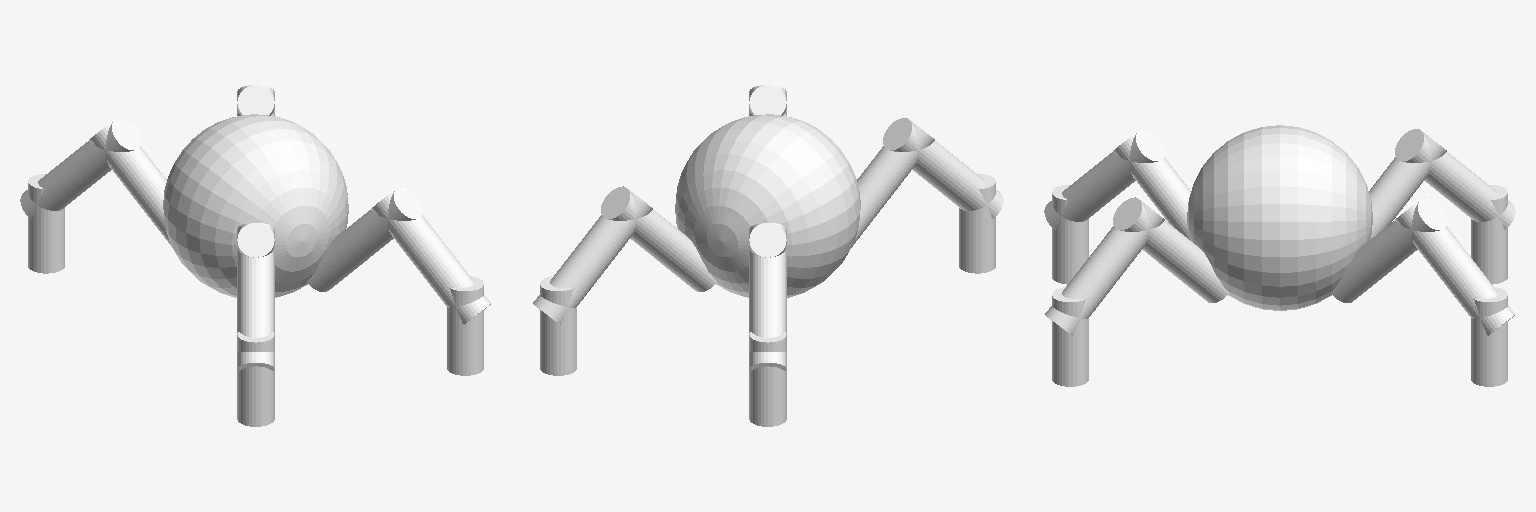
URDF robot description (robot_model):
<?xml version="1.0" ?>
<robot name="robot_model">
    <material name="material_0">
        <color rgba="1.0 1.0 1.0 1.0" />
        <texture filename="wood_0.png" />
    </material>
    <link name="base_link">
        <visual>
            <geometry>
                <sphere radius="0.25" />
            </geometry>
            <origin rpy="1.5708 -0 0" xyz="0 0 0" />
            <material name="material_0" />
        </visual>
        <collision>
            <geometry>
                <sphere radius="0.25" />
            </geometry>
            <origin rpy="1.5708 -0 0" xyz="0 0 0" />
        </collision>
        <inertial>
            <origin rpy="0 -0 0" xyz="0 0 0" />
            <mass value="20" />
            <inertia xx="0.5" xy="0" xz="0" yy="0.5" yz="0" zz="0.5" />
        </inertial>
    </link>
    <link name="node_2_link">
        <visual>
            <geometry>
                <cylinder length="0.4" radius="0.05" />
                <newton replaceWith="capsule" />
            </geometry>
            <origin rpy="2.58142e-15 -1.5708 0" xyz="0.15 0 1.74674e-09" />
            <material name="material_0" />
        </visual>
        <collision>
            <geometry>
                <cylinder length="0.4" radius="0.05" />
                <newton replaceWith="capsule" />
            </geometry>
            <origin rpy="2.58142e-15 -1.5708 0" xyz="0.15 0 1.74674e-09" />
        </collision>
        <inertial>
            <origin rpy="0 -0 0" xyz="0.15 0 -5.70384e-09" />
            <mass value="0.25" />
            <inertia xx="0.00259239" xy="0.000569043" xz="-0.000657074" yy="0.00193531" yz="0.00113809" zz="0.00160678" />
        </inertial>
    </link>
    <joint name="node_2_link_to_base_link" type="floating">
        <parent link="base_link" />
        <child link="node_2_link" />
        <newton replaceWith="ndIkJointSpherical" />
        <origin rpy="1.5708 -0.785398 -1.0472" xyz="0.1125 -0.194856 -0.125" />
    </joint>
    <link name="node_1_link">
        <visual>
            <geometry>
                <cylinder length="0.4" radius="0.05" />
                <newton replaceWith="capsule" />
            </geometry>
            <origin rpy="-1.5708 -8.22321e-09 3.14159" xyz="-1.31544e-08 0.15 -2.98023e-08" />
            <material name="material_0" />
        </visual>
        <collision>
            <geometry>
                <cylinder length="0.4" radius="0.05" />
                <newton replaceWith="capsule" />
            </geometry>
            <origin rpy="-1.5708 -8.22321e-09 3.14159" xyz="-1.31544e-08 0.15 -2.98023e-08" />
        </collision>
        <inertial>
            <origin rpy="0 -0 0" xyz="-5.70385e-09 0.15 -2.23517e-08" />
            <mass value="0.0625" />
            <inertia xx="0.000237425" xy="-0.000284521" xz="1.16415e-10" yy="0.000565963" yz="0" zz="0.000730231" />
        </inertial>
    </link>
    <joint name="node_1_link_to_node_2_link" type="floating">
        <parent link="node_2_link" />
        <child link="node_1_link" />
        <newton replaceWith="ndIkJointHinge" />
        <origin rpy="3.14159 1.5708 0" xyz="0.3 0 -2.63088e-08" />
    </joint>
    <link name="node_0_link">
        <visual>
            <geometry>
                <cylinder length="0.25" radius="0.05" />
                <newton replaceWith="capsule" />
            </geometry>
            <origin rpy="-1.5708 8.51837e-14 -2.98231e-07" xyz="1.74423e-08 -0.075 0" />
            <material name="material_0" />
        </visual>
        <collision>
            <geometry>
                <cylinder length="0.25" radius="0.05" />
                <newton replaceWith="capsule" />
            </geometry>
            <origin rpy="-1.5708 8.51837e-14 -2.98231e-07" xyz="1.74423e-08 -0.075 0" />
        </collision>
        <inertial>
            <origin rpy="0 -0 0" xyz="1.74422e-08 -0.075 -4.40761e-09" />
            <mass value="0.0625" />
            <inertia xx="0.000123308" xy="-9.05194e-05" xz="3.62802e-11" yy="0.000227831" yz="-7.11733e-12" zz="0.000280093" />
        </inertial>
    </link>
    <joint name="node_0_link_to_node_1_link" type="continuous">
        <parent link="node_1_link" />
        <child link="node_0_link" />
        <newton springPD="2000.000000" damperPD="50.000000" regularizer="0.001000" />
        <origin rpy="-0.785398 -8.22321e-09 3.14159" xyz="3.49347e-09 0.3 -2.98023e-08" />
    </joint>
    <link name="node_5_link">
        <visual>
            <geometry>
                <cylinder length="0.4" radius="0.05" />
                <newton replaceWith="capsule" />
            </geometry>
            <origin rpy="2.98023e-08 -1.5708 0" xyz="0.15 -1.49012e-08 -6.9622e-09" />
            <material name="material_0" />
        </visual>
        <collision>
            <geometry>
                <cylinder length="0.4" radius="0.05" />
                <newton replaceWith="capsule" />
            </geometry>
            <origin rpy="2.98023e-08 -1.5708 0" xyz="0.15 -1.49012e-08 -6.9622e-09" />
        </collision>
        <inertial>
            <origin rpy="0 -0 0" xyz="0.15 -7.45058e-09 4.21367e-09" />
            <mass value="0.25" />
            <inertia xx="0.00259239" xy="-0.000569044" xz="0.000657076" yy="0.00193531" yz="0.00113809" zz="0.00160678" />
        </inertial>
    </link>
    <joint name="node_5_link_to_base_link" type="floating">
        <parent link="base_link" />
        <child link="node_5_link" />
        <newton replaceWith="ndIkJointSpherical" />
        <origin rpy="1.5708 -0.785398 -2.0944" xyz="-0.1125 -0.194856 -0.125" />
    </joint>
    <link name="node_4_link">
        <visual>
            <geometry>
                <cylinder length="0.4" radius="0.05" />
                <newton replaceWith="capsule" />
            </geometry>
            <origin rpy="-1.5708 -5.13818e-08 3.14159" xyz="1.09192e-08 0.15 -2.98023e-08" />
            <material name="material_0" />
        </visual>
        <collision>
            <geometry>
                <cylinder length="0.4" radius="0.05" />
                <newton replaceWith="capsule" />
            </geometry>
            <origin rpy="-1.5708 -5.13818e-08 3.14159" xyz="1.09192e-08 0.15 -2.98023e-08" />
        </collision>
        <inertial>
            <origin rpy="0 -0 0" xyz="1.09192e-08 0.15 0" />
            <mass value="0.0625" />
            <inertia xx="0.000237426" xy="0.000284522" xz="-4.36557e-11" yy="0.000565962" yz="5.82077e-11" zz="0.000730231" />
        </inertial>
    </link>
    <joint name="node_4_link_to_node_5_link" type="floating">
        <parent link="node_5_link" />
        <child link="node_4_link" />
        <newton replaceWith="ndIkJointHinge" />
        <origin rpy="3.14159 1.5708 0" xyz="0.3 1.49012e-08 8.42733e-09" />
    </joint>
    <link name="node_3_link">
        <visual>
            <geometry>
                <cylinder length="0.25" radius="0.05" />
                <newton replaceWith="capsule" />
            </geometry>
            <origin rpy="-1.5708 -1.10084e-13 -3.5541e-07" xyz="-1.64744e-08 -0.075 0" />
            <material name="material_0" />
        </visual>
        <collision>
            <geometry>
                <cylinder length="0.25" radius="0.05" />
                <newton replaceWith="capsule" />
            </geometry>
            <origin rpy="-1.5708 -1.10084e-13 -3.5541e-07" xyz="-1.64744e-08 -0.075 0" />
        </collision>
        <inertial>
            <origin rpy="0 -0 0" xyz="-1.64745e-08 -0.075 -4.40757e-09" />
            <mass value="0.0625" />
            <inertia xx="0.000123308" xy="9.05196e-05" xz="-2.71392e-11" yy="0.000227831" yz="-7.57541e-12" zz="0.000280093" />
        </inertial>
    </link>
    <joint name="node_3_link_to_node_4_link" type="continuous">
        <parent link="node_4_link" />
        <child link="node_3_link" />
        <newton springPD="2000.000000" damperPD="50.000000" regularizer="0.001000" />
        <origin rpy="-0.785398 -6.67831e-09 3.14159" xyz="-5.26674e-08 0.3 -5.96046e-08" />
    </joint>
    <link name="node_8_link">
        <visual>
            <geometry>
                <cylinder length="0.4" radius="0.05" />
                <newton replaceWith="capsule" />
            </geometry>
            <origin rpy="-2.98023e-08 -1.5708 0" xyz="0.15 0 -3.15491e-08" />
            <material name="material_0" />
        </visual>
        <collision>
            <geometry>
                <cylinder length="0.4" radius="0.05" />
                <newton replaceWith="capsule" />
            </geometry>
            <origin rpy="-2.98023e-08 -1.5708 0" xyz="0.15 0 -3.15491e-08" />
        </collision>
        <inertial>
            <origin rpy="0 -0 0" xyz="0.15 -7.45058e-09 -1.66479e-08" />
            <mass value="0.25" />
            <inertia xx="0.00259239" xy="0.000569044" xz="0.000657074" yy="0.00193531" yz="-0.00113809" zz="0.00160678" />
        </inertial>
    </link>
    <joint name="node_8_link_to_base_link" type="floating">
        <parent link="base_link" />
        <child link="node_8_link" />
        <newton replaceWith="ndIkJointSpherical" />
        <origin rpy="1.5708 -0.785398 2.09439" xyz="-0.1125 0.194856 -0.125" />
    </joint>
    <link name="node_7_link">
        <visual>
            <geometry>
                <cylinder length="0.4" radius="0.05" />
                <newton replaceWith="capsule" />
            </geometry>
            <origin rpy="1.5708 -3.80255e-08 2.46089e-07" xyz="-1.76247e-08 0.15 0" />
            <material name="material_0" />
        </visual>
        <collision>
            <geometry>
                <cylinder length="0.4" radius="0.05" />
                <newton replaceWith="capsule" />
            </geometry>
            <origin rpy="1.5708 -3.80255e-08 2.46089e-07" xyz="-1.76247e-08 0.15 0" />
        </collision>
        <inertial>
            <origin rpy="0 -0 0" xyz="-2.50753e-08 0.15 7.45058e-09" />
            <mass value="0.0625" />
            <inertia xx="0.000237425" xy="-0.000284522" xz="7.27596e-11" yy="0.000565963" yz="1.74623e-10" zz="0.000730231" />
        </inertial>
    </link>
    <joint name="node_7_link_to_node_8_link" type="floating">
        <parent link="node_8_link" />
        <child link="node_7_link" />
        <newton replaceWith="ndIkJointHinge" />
        <origin rpy="-3.14159 -1.5708 0" xyz="0.3 2.98023e-08 -3.49351e-09" />
    </joint>
    <link name="node_6_link">
        <visual>
            <geometry>
                <cylinder length="0.25" radius="0.05" />
                <newton replaceWith="capsule" />
            </geometry>
            <origin rpy="-1.5708 -2.98024e-08 -2.12818e-07" xyz="7.98065e-09 -0.075 1.19209e-07" />
            <material name="material_0" />
        </visual>
        <collision>
            <geometry>
                <cylinder length="0.25" radius="0.05" />
                <newton replaceWith="capsule" />
            </geometry>
            <origin rpy="-1.5708 -2.98024e-08 -2.12818e-07" xyz="7.98065e-09 -0.075 1.19209e-07" />
        </collision>
        <inertial>
            <origin rpy="0 -0 0" xyz="3.98793e-09 -0.075 7.29529e-08" />
            <mass value="0.0625" />
            <inertia xx="0.000123308" xy="-9.05195e-05" xz="3.15258e-11" yy="0.000227831" yz="7.48354e-11" zz="0.000280093" />
        </inertial>
    </link>
    <joint name="node_6_link_to_node_7_link" type="continuous">
        <parent link="node_7_link" />
        <child link="node_6_link" />
        <newton springPD="2000.000000" damperPD="50.000000" regularizer="0.001000" />
        <origin rpy="2.35619 -6.78278e-08 -9.76301e-08" xyz="-5.01507e-08 0.3 -2.98023e-08" />
    </joint>
    <link name="node_11_link">
        <visual>
            <geometry>
                <cylinder length="0.4" radius="0.05" />
                <newton replaceWith="capsule" />
            </geometry>
            <origin rpy="-2.98023e-08 -1.5708 0" xyz="0.15 -1.49012e-08 1.14325e-08" />
            <material name="material_0" />
        </visual>
        <collision>
            <geometry>
                <cylinder length="0.4" radius="0.05" />
                <newton replaceWith="capsule" />
            </geometry>
            <origin rpy="-2.98023e-08 -1.5708 0" xyz="0.15 -1.49012e-08 1.14325e-08" />
        </collision>
        <inertial>
            <origin rpy="0 -0 0" xyz="0.15 0 3.98195e-09" />
            <mass value="0.25" />
            <inertia xx="0.00259239" xy="-0.000569044" xz="-0.000657075" yy="0.00193531" yz="-0.00113809" zz="0.00160678" />
        </inertial>
    </link>
    <joint name="node_11_link_to_base_link" type="floating">
        <parent link="base_link" />
        <child link="node_11_link" />
        <newton replaceWith="ndIkJointSpherical" />
        <origin rpy="1.5708 -0.785398 1.0472" xyz="0.1125 0.194856 -0.125" />
    </joint>
    <link name="node_10_link">
        <visual>
            <geometry>
                <cylinder length="0.4" radius="0.05" />
                <newton replaceWith="capsule" />
            </geometry>
            <origin rpy="1.5708 6.78277e-08 3.22139e-07" xyz="1.53896e-08 0.15 -2.98023e-08" />
            <material name="material_0" />
        </visual>
        <collision>
            <geometry>
                <cylinder length="0.4" radius="0.05" />
                <newton replaceWith="capsule" />
            </geometry>
            <origin rpy="1.5708 6.78277e-08 3.22139e-07" xyz="1.53896e-08 0.15 -2.98023e-08" />
        </collision>
        <inertial>
            <origin rpy="0 -0 0" xyz="1.53896e-08 0.15 -2.23517e-08" />
            <mass value="0.0625" />
            <inertia xx="0.000237425" xy="0.000284522" xz="-1.01863e-10" yy="0.000565963" yz="1.16415e-10" zz="0.000730231" />
        </inertial>
    </link>
    <joint name="node_10_link_to_node_11_link" type="floating">
        <parent link="node_11_link" />
        <child link="node_10_link" />
        <newton replaceWith="ndIkJointHinge" />
        <origin rpy="-3.14159 -1.5708 0" xyz="0.3 0 5.13314e-10" />
    </joint>
    <link name="node_9_link">
        <visual>
            <geometry>
                <cylinder length="0.25" radius="0.05" />
                <newton replaceWith="capsule" />
            </geometry>
            <origin rpy="-1.5708 -1.57329e-16 -3.29601e-07" xyz="-1.11837e-08 -0.075 0" />
            <material name="material_0" />
        </visual>
        <collision>
            <geometry>
                <cylinder length="0.25" radius="0.05" />
                <newton replaceWith="capsule" />
            </geometry>
            <origin rpy="-1.5708 -1.57329e-16 -3.29601e-07" xyz="-1.11837e-08 -0.075 0" />
        </collision>
        <inertial>
            <origin rpy="0 -0 0" xyz="-1.11837e-08 -0.075 6.43262e-09" />
            <mass value="0.0625" />
            <inertia xx="0.000123308" xy="9.05196e-05" xz="-2.05506e-11" yy="0.000227831" yz="3.99286e-11" zz="0.000280093" />
        </inertial>
    </link>
    <joint name="node_9_link_to_node_10_link" type="continuous">
        <parent link="node_10_link" />
        <child link="node_9_link" />
        <newton springPD="2000.000000" damperPD="50.000000" regularizer="0.001000" />
        <origin rpy="2.35619 8.27288e-08 2.31242e-08" xyz="1.58779e-08 0.3 -5.96046e-08" />
    </joint>
</robot>

--- Facts derived from the render (not from the file) ---
Views: 3 orthographic renders of the robot side by side, from view 1: azimuth 30°, elevation 25°; view 2: azimuth 150°, elevation 25°; view 3: azimuth 270°, elevation 25°.
Robot: robot_model — 13 links, 12 joints (4 continuous, 8 floating); root link base_link; default pose: every joint at zero.
Visible links, largest first — view 1: base_link, node_1_link, node_2_link, node_7_link, node_4_link, node_8_link, node_0_link, node_3_link, node_6_link, node_5_link, node_10_link; view 2: base_link, node_10_link, node_11_link, node_4_link, node_7_link, node_5_link, node_9_link, node_6_link, node_3_link, node_8_link, node_1_link; view 3: base_link, node_1_link, node_10_link, node_2_link, node_11_link, node_4_link, node_7_link, node_0_link, node_9_link, node_5_link, node_8_link, node_3_link (+1 smaller).
Boxes of the visible links, x1,y1,x2,y2 form: base_link: (163,114,348,297); node_1_link: (371,186,490,324); node_2_link: (307,187,422,291); node_7_link: (20,118,140,218); node_4_link: (237,223,274,370); node_8_link: (89,118,172,247); node_0_link: (447,276,483,375); node_3_link: (237,332,274,426); node_6_link: (28,174,64,273); node_5_link: (237,223,274,257); node_10_link: (237,85,274,115); base_link: (675,114,860,297); node_10_link: (533,186,652,324); node_11_link: (601,187,716,291); node_4_link: (883,118,1003,218); node_7_link: (749,223,786,370); node_5_link: (851,118,934,247); node_9_link: (540,276,576,375); node_6_link: (749,332,786,426); node_3_link: (959,174,995,273); node_8_link: (749,223,786,257); node_1_link: (749,85,786,115); base_link: (1187,125,1372,310); node_1_link: (1045,197,1164,335); node_10_link: (1395,197,1514,335); node_2_link: (1113,198,1228,302); node_11_link: (1331,198,1446,302); node_4_link: (1044,129,1164,229); node_7_link: (1395,129,1515,229); node_0_link: (1052,287,1088,386); node_9_link: (1471,287,1507,386); node_5_link: (1113,129,1190,239); node_8_link: (1369,129,1446,239); node_3_link: (1052,185,1088,284).
Bounding box of the posed robot: 0.7782 × 1.26 × 0.575 m (x, y, z).
Geometry: primitives only (box / cylinder / sphere), no mesh files.
